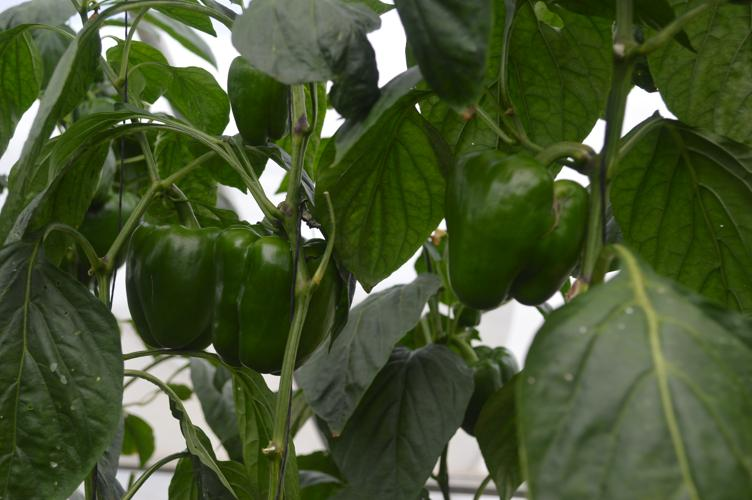BellPepper: (437, 149, 589, 304), (208, 226, 344, 373), (129, 222, 211, 354), (226, 59, 285, 148)
